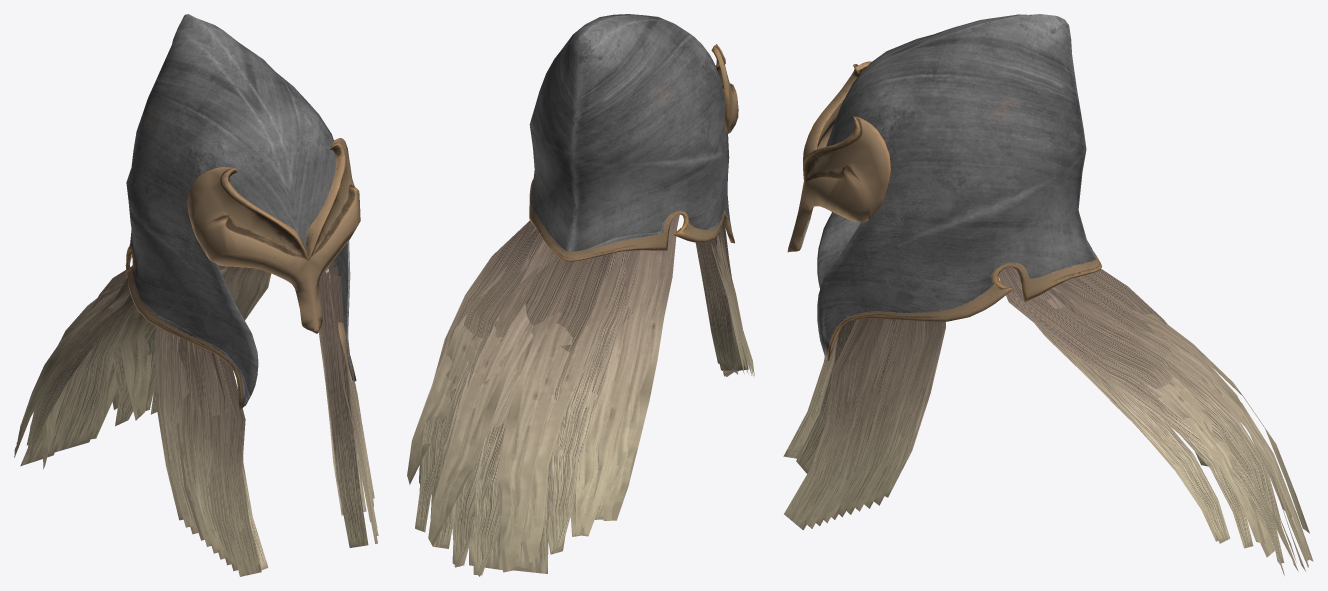
Rendered from mkwd_inf1_t1_helmet_silver_hc.fbx.
The picture shows the model from 3 angles, left to right: view 1: azimuth 30°, elevation 25°; view 2: azimuth 150°, elevation 25°; view 3: azimuth 270°, elevation 25°; orthographic projection. The views are drawn at different scales.
Parts seen in each view (by area): view 1: mkwd_inf1_t1_helmet_silver_hc.lod0.1, mkwd_inf1_t1_helmet_silver_hc.lod0.0; view 2: mkwd_inf1_t1_helmet_silver_hc.lod0.0, mkwd_inf1_t1_helmet_silver_hc.lod0.1; view 3: mkwd_inf1_t1_helmet_silver_hc.lod0.1, mkwd_inf1_t1_helmet_silver_hc.lod0.0.
Part boxes in pixels (<box>): mkwd_inf1_t1_helmet_silver_hc.lod0.1: <box>125,14,360,409</box>; mkwd_inf1_t1_helmet_silver_hc.lod0.0: <box>14,261,378,576</box>; mkwd_inf1_t1_helmet_silver_hc.lod0.0: <box>407,211,754,576</box>; mkwd_inf1_t1_helmet_silver_hc.lod0.1: <box>529,14,738,261</box>; mkwd_inf1_t1_helmet_silver_hc.lod0.1: <box>787,14,1101,360</box>; mkwd_inf1_t1_helmet_silver_hc.lod0.0: <box>783,267,1313,575</box>.
Size of the model in its own units: 0.239 by 0.4703 by 0.5354.
Materials: 2 (2 with a texture image).
